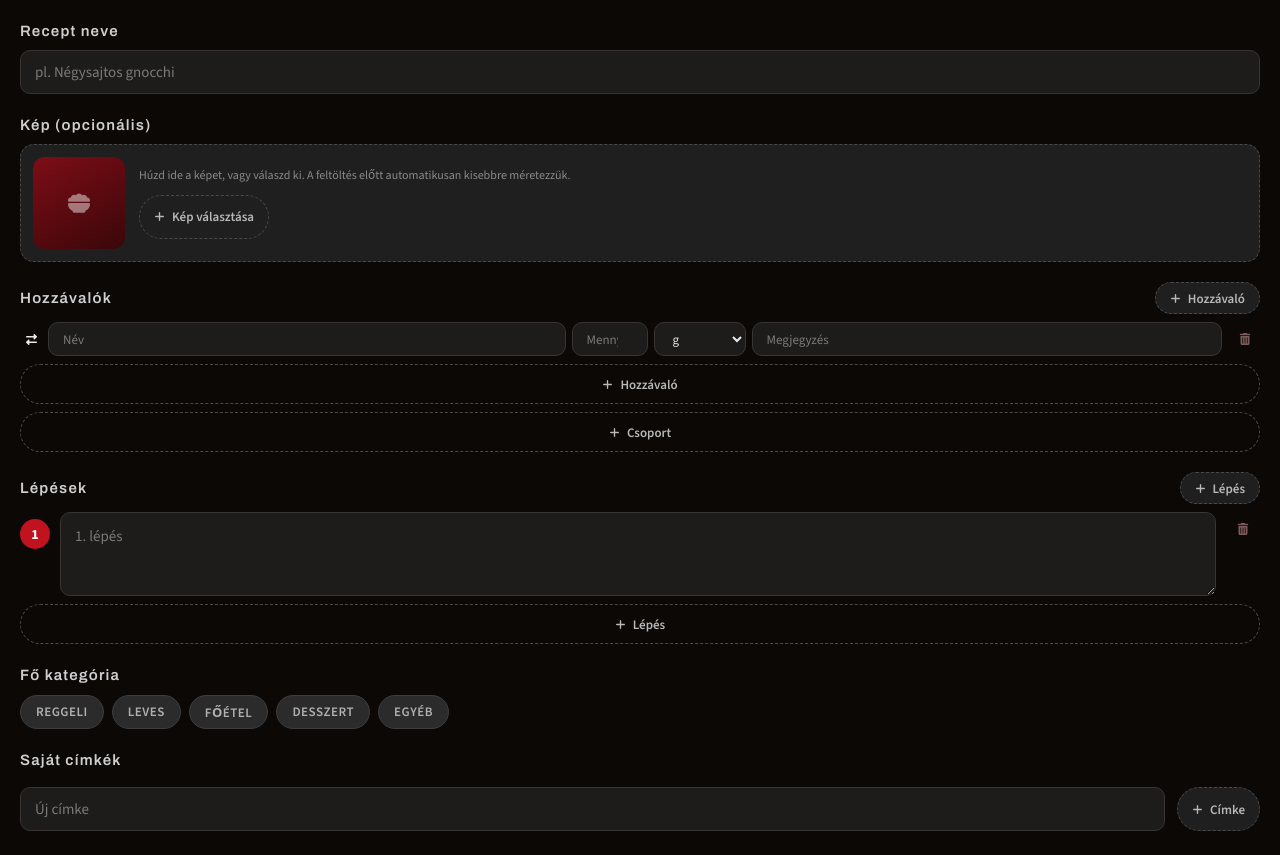
Test: NewRecipeForm ingredient groups › shows no group heading until one is added
Step 1. Click the button "Csoport" → (640,432), box [20, 412, 1260, 452]
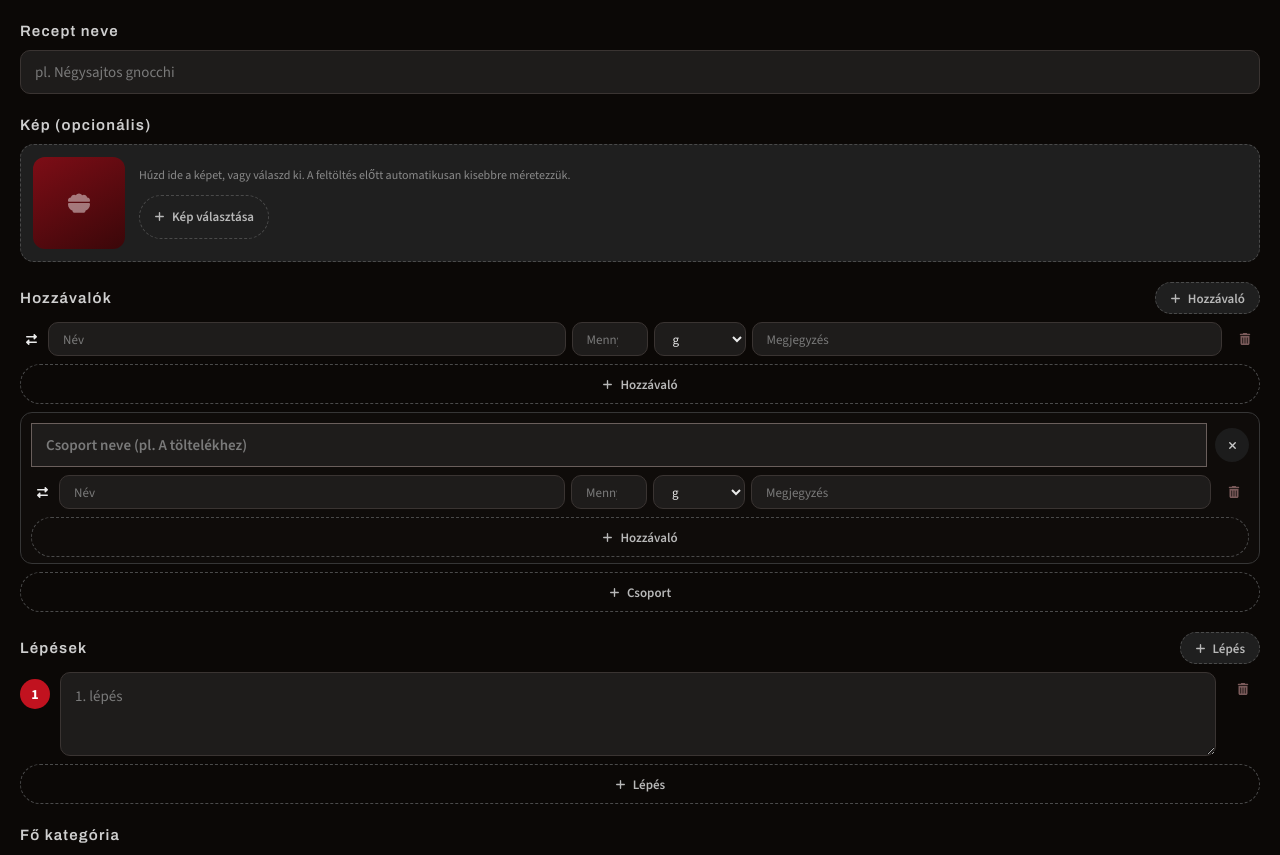
Result: the number of fields labelled "Csoport neve" is 1 at [31, 423, 1207, 467]
